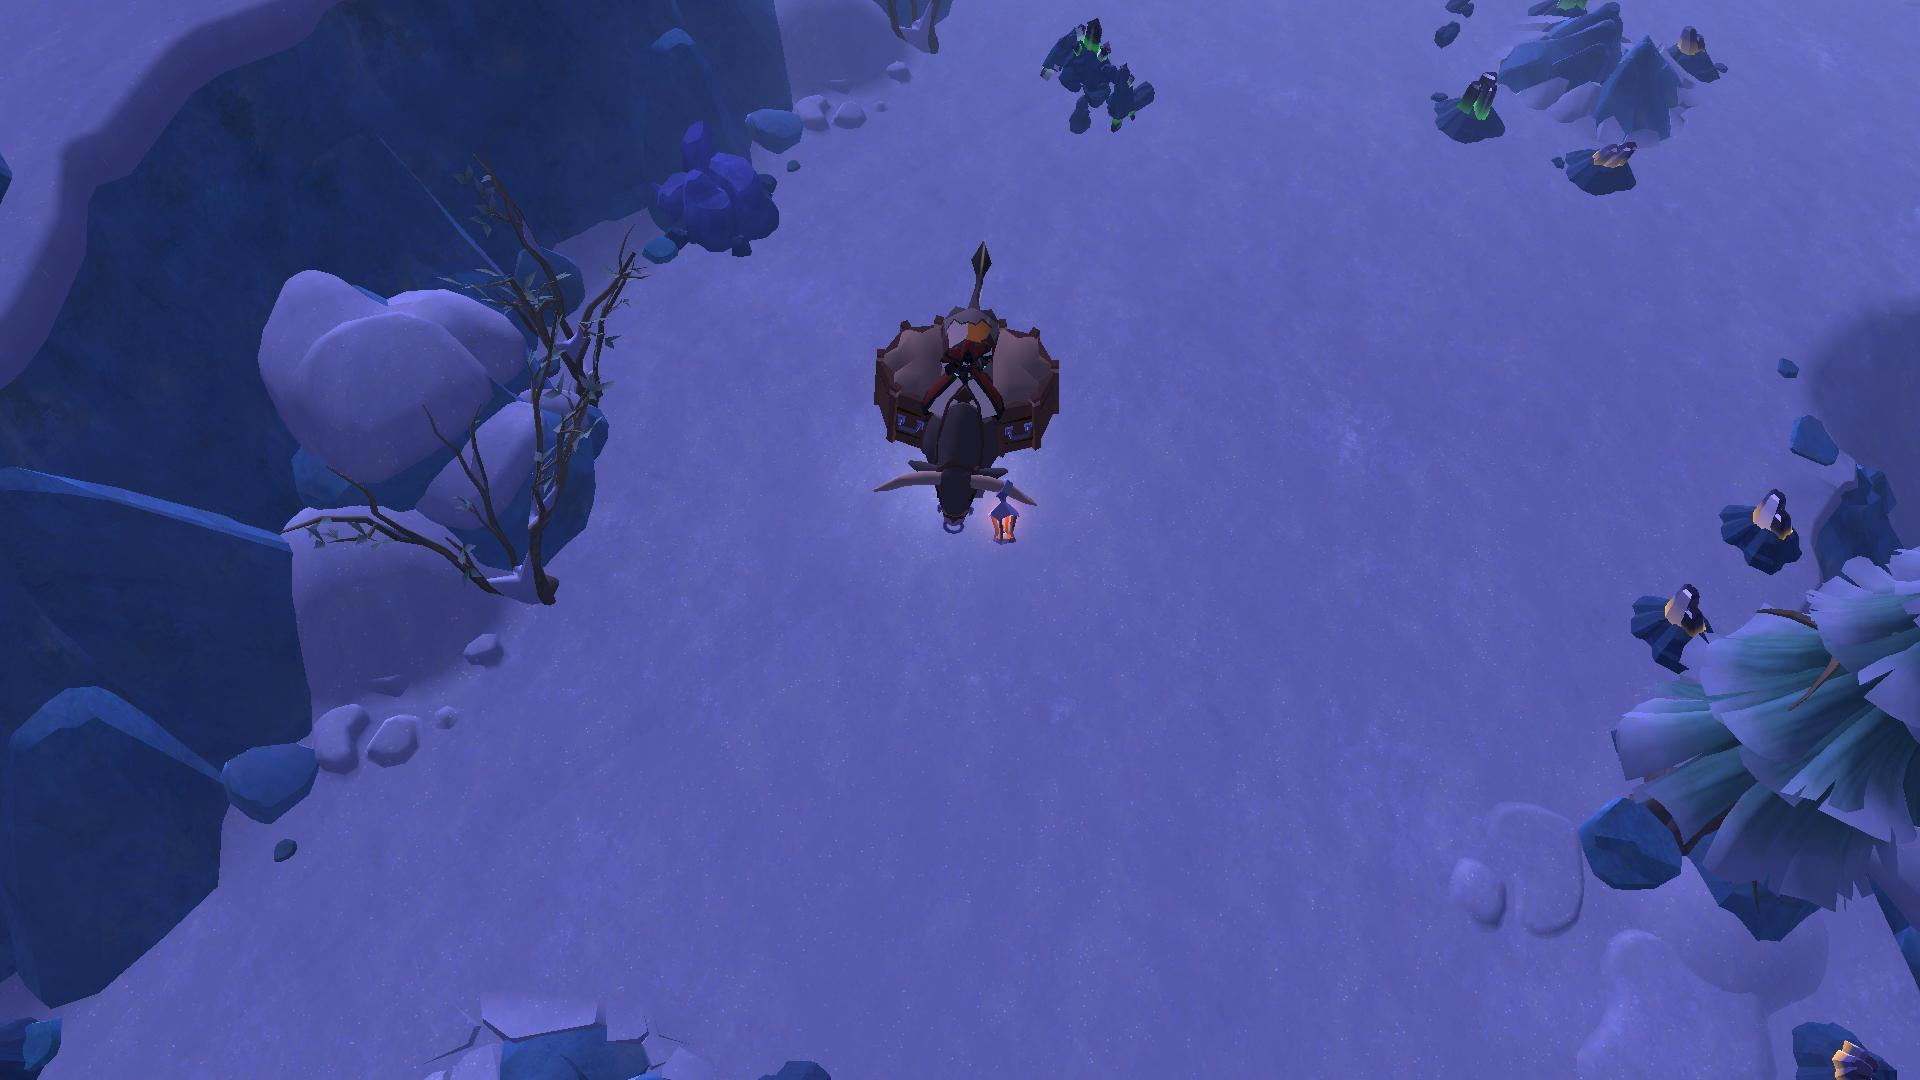ore_t3: (1448, 73, 1505, 119)
rock_t4: (650, 112, 791, 266)
